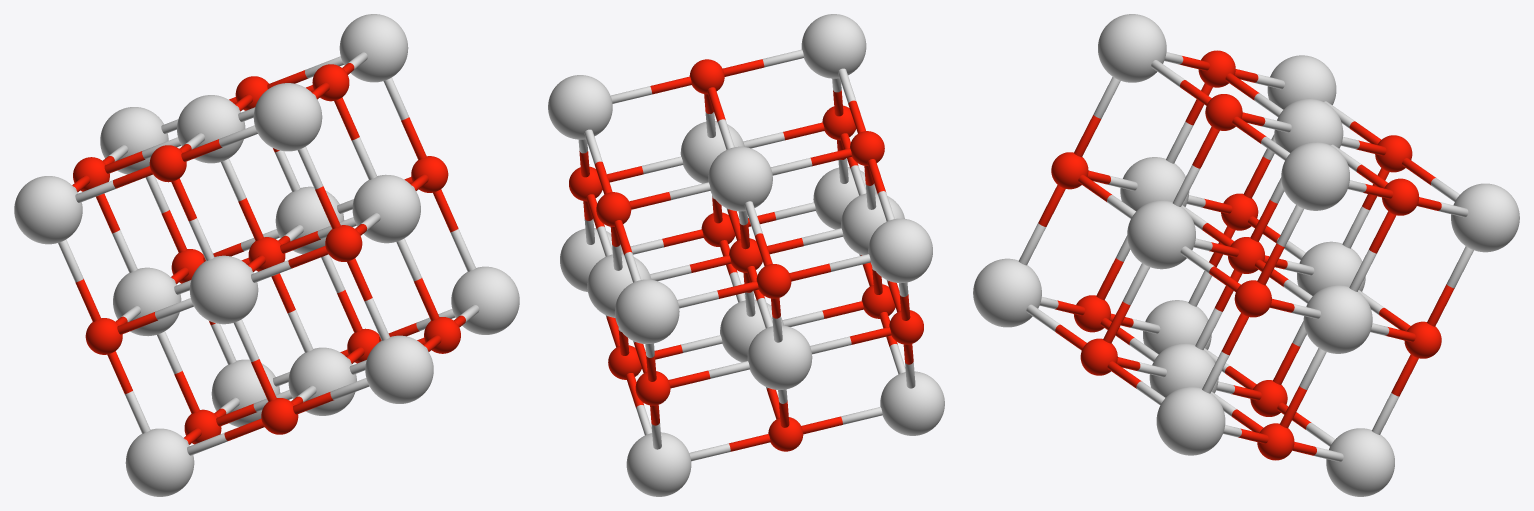
The model's file is MnO.glb.
3 renders of one model, left to right at view 1: azimuth 30°, elevation 25°; view 2: azimuth 150°, elevation 25°; view 3: azimuth 270°, elevation 25°, orthographic. The views are drawn at different scales.
Parts seen in each view (by area): view 1: CMAtom_12, CMAtom_16, CMAtom_0, CMAtom_8, CMAtom_1, CMAtom_24, CMAtom_13, CMAtom_26, CMAtom_2, CMAtom_9, CMAtom_3, CMAtom_18 (+15 smaller); view 2: CMAtom_18, CMAtom_0, CMAtom_2, CMAtom_12, CMAtom_24, CMAtom_22, CMAtom_3, CMAtom_8, CMAtom_19, CMAtom_1, CMAtom_13, CMAtom_26 (+15 smaller); view 3: CMAtom_24, CMAtom_26, CMAtom_12, CMAtom_16, CMAtom_13, CMAtom_18, CMAtom_19, CMAtom_22, CMAtom_0, CMAtom_2, CMAtom_1, CMAtom_3 (+15 smaller).
Boxes of the visible parts, left/top/right/bottom form: CMAtom_12: left=253, top=83, right=322, bottom=151; CMAtom_16: left=365, top=335, right=433, bottom=403; CMAtom_0: left=14, top=176, right=82, bottom=244; CMAtom_8: left=125, top=428, right=194, bottom=496; CMAtom_1: left=189, top=255, right=258, bottom=324; CMAtom_24: left=339, top=14, right=408, bottom=82; CMAtom_13: left=352, top=174, right=420, bottom=243; CMAtom_26: left=451, top=266, right=519, bottom=334; CMAtom_2: left=177, top=95, right=245, bottom=163; CMAtom_9: left=288, top=347, right=356, bottom=415; CMAtom_3: left=113, top=267, right=181, bottom=336; CMAtom_18: left=100, top=107, right=168, bottom=174; CMAtom_18: left=615, top=279, right=679, bottom=343; CMAtom_0: left=868, top=218, right=932, bottom=283; CMAtom_2: left=708, top=146, right=772, bottom=211; CMAtom_12: left=801, top=14, right=866, bottom=78; CMAtom_24: left=548, top=75, right=612, bottom=139; CMAtom_22: left=626, top=432, right=691, bottom=496; CMAtom_3: left=747, top=325, right=812, bottom=389; CMAtom_8: left=880, top=371, right=944, bottom=435; CMAtom_19: left=587, top=253, right=651, bottom=317; CMAtom_1: left=841, top=192, right=904, bottom=255; CMAtom_13: left=680, top=121, right=744, bottom=183; CMAtom_26: left=560, top=228, right=623, bottom=291; CMAtom_24: left=1281, top=142, right=1349, bottom=210; CMAtom_26: left=1156, top=387, right=1225, bottom=455; CMAtom_12: left=1098, top=14, right=1166, bottom=82; CMAtom_16: left=973, top=258, right=1041, bottom=327; CMAtom_13: left=1127, top=200, right=1195, bottom=269; CMAtom_18: left=1451, top=183, right=1519, bottom=252; CMAtom_19: left=1303, top=285, right=1372, bottom=353; CMAtom_22: left=1326, top=428, right=1394, bottom=496; CMAtom_0: left=1267, top=55, right=1336, bottom=109; CMAtom_2: left=1274, top=98, right=1343, bottom=152; CMAtom_1: left=1120, top=157, right=1189, bottom=211; CMAtom_3: left=1297, top=241, right=1365, bottom=295.
Bounding box in the file's own units: 8.15 × 7.75 × 8.7.
